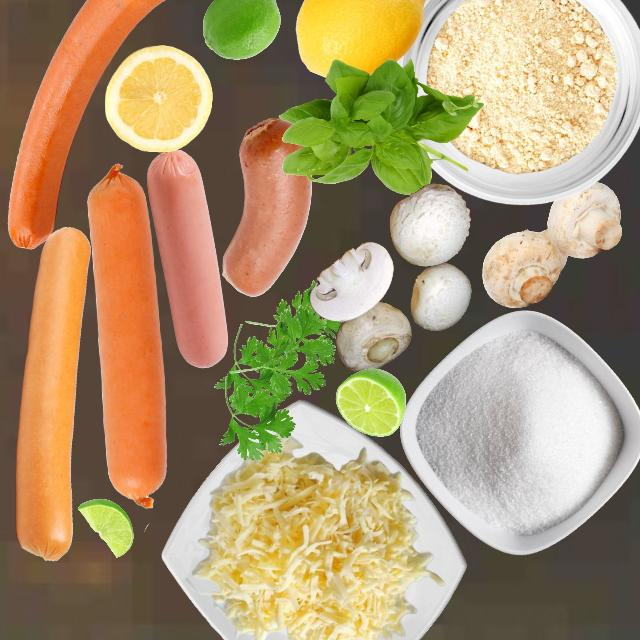Flour: (426, 0, 617, 173)
Sugar: (415, 328, 623, 536)
